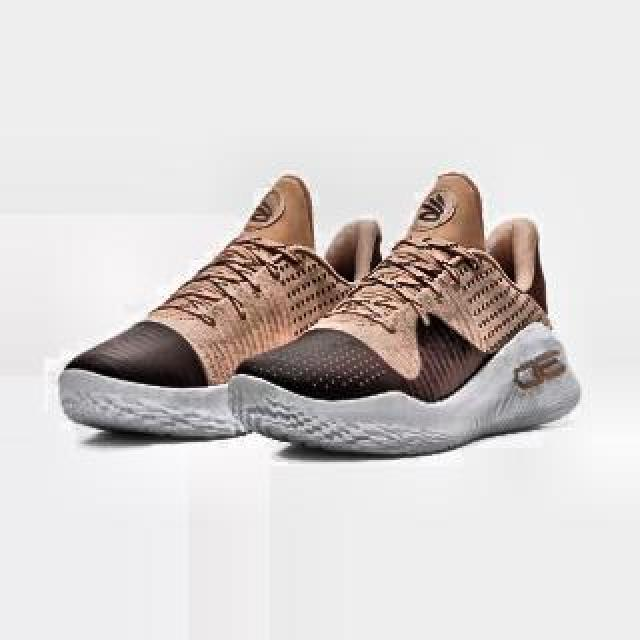shoe: (231, 170, 581, 458), (59, 174, 415, 438)
